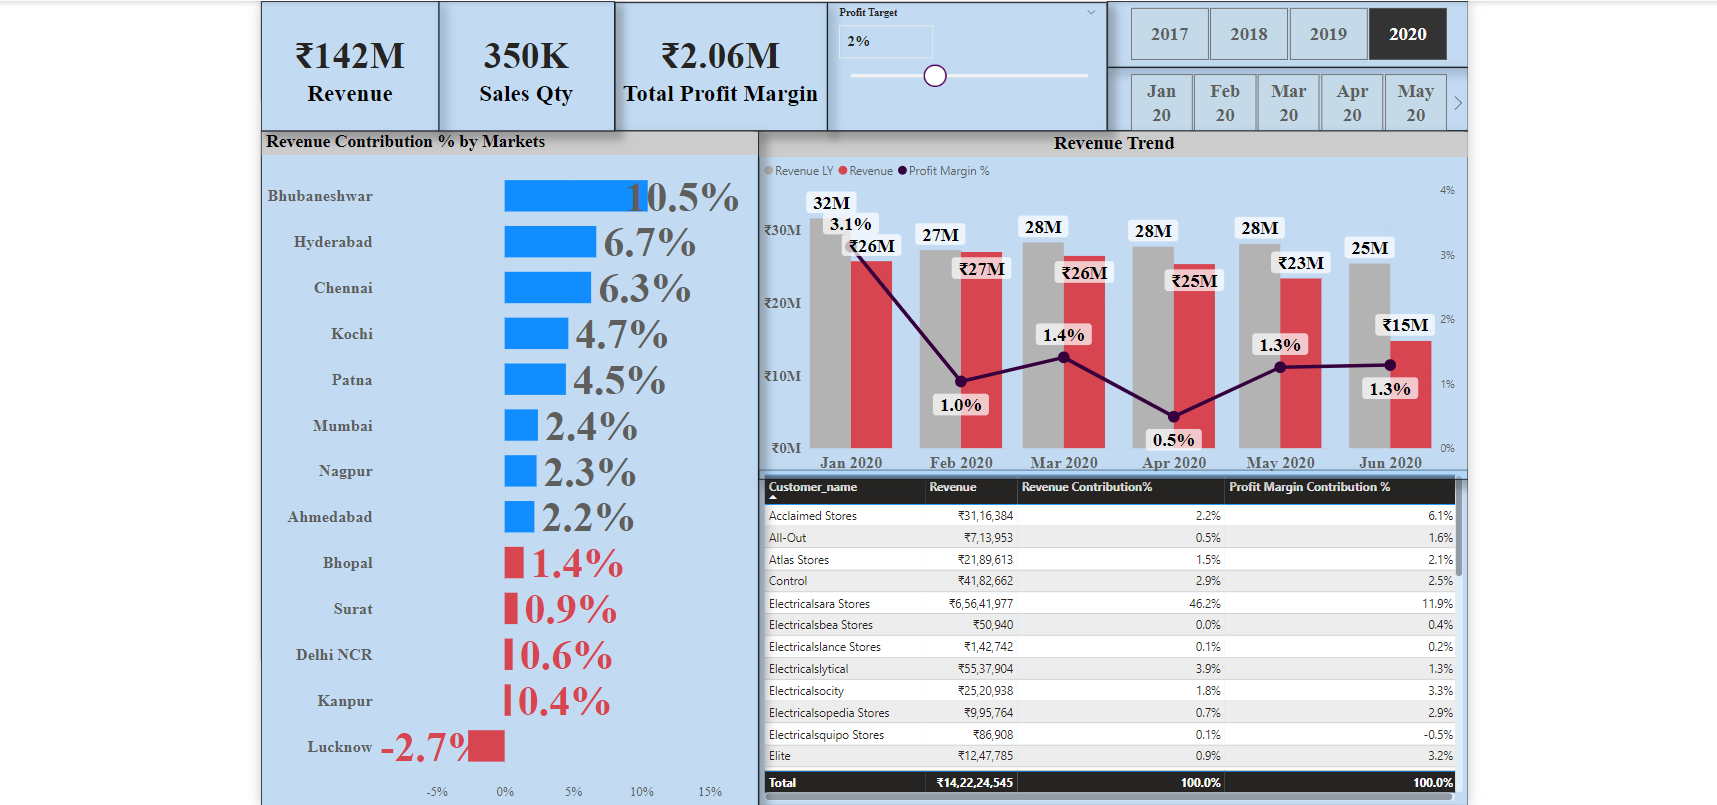

The page's visual inventory and layout, read from the dashboard file:
{"tool":"powerbi","page":{"name":"Performance Insights","canvas":[1380,921],"ordinal":2},"visuals":[{"type":"slicer","fields":{"Values":["sales date.year"]},"box":[967,0,412.8,75.7],"z":0},{"type":"slicer","fields":{"Values":["sales date.cy_date"]},"box":[967,75.7,412.8,72.8],"z":1000},{"type":"tableEx","title":"Top 5 Customers","fields":{"Values":["sales customers.custmer_name","Base Measure.Revenue","Base Measure.Revenue Contribution%","Base Measure.Profit Margin Contribution %"]},"box":[568.5,535.6,811.3,384.2],"z":2000},{"type":"lineClusteredColumnComboChart","title":"Revenue Trend","fields":{"Category":["sales date.cy_date"],"Y":["Base Measure.Revenue LY","Base Measure.Revenue"],"Y2":["Base Measure.Profit Margin %"]},"box":[568.5,148.5,811.3,398.5],"z":3000},{"type":"card","fields":{"Values":["Base Measure.Total_profit_Margin"]},"box":[404.2,1.4,242.8,147.1],"z":4000},{"type":"barChart","title":"Revenue Contribution %  by Markets","fields":{"Category":["sales markets.markets_name","sales markets.zone"],"Y":["Base Measure.Profit Margin %"]},"box":[0,148.5,568.5,772.7],"z":5000},{"type":"card","fields":{"Values":["Base Measure.Revenue"]},"box":[0,0,204.3,148.5],"z":6000},{"type":"card","fields":{"Values":["Base Measure.Sales Qty"]},"box":[202.8,0,201.4,148.5],"z":7000},{"type":"slicer","fields":{"Values":["Profit Target.Profit Target"]},"box":[647,1.4,320,147.1],"z":8000}]}

Visuals, with their boxes on the page's 1380x921 design canvas (x1, y1, x2, y2). These are canvas units, not pixel positions in the 1717x805 screenshot, which may show the page scaled, cropped or inside an application window:
slicer - sales date.year: region(967, 0, 1380, 76)
slicer - sales date.cy_date: region(967, 76, 1380, 148)
"Top 5 Customers" tableEx: region(568, 536, 1380, 920)
"Revenue Trend" lineClusteredColumnComboChart: region(568, 148, 1380, 547)
card - Base Measure.Total_profit_Margin: region(404, 1, 647, 148)
"Revenue Contribution %  by Markets" barChart: region(0, 148, 568, 921)
card - Base Measure.Revenue: region(0, 0, 204, 148)
card - Base Measure.Sales Qty: region(203, 0, 404, 148)
slicer - Profit Target.Profit Target: region(647, 1, 967, 148)
